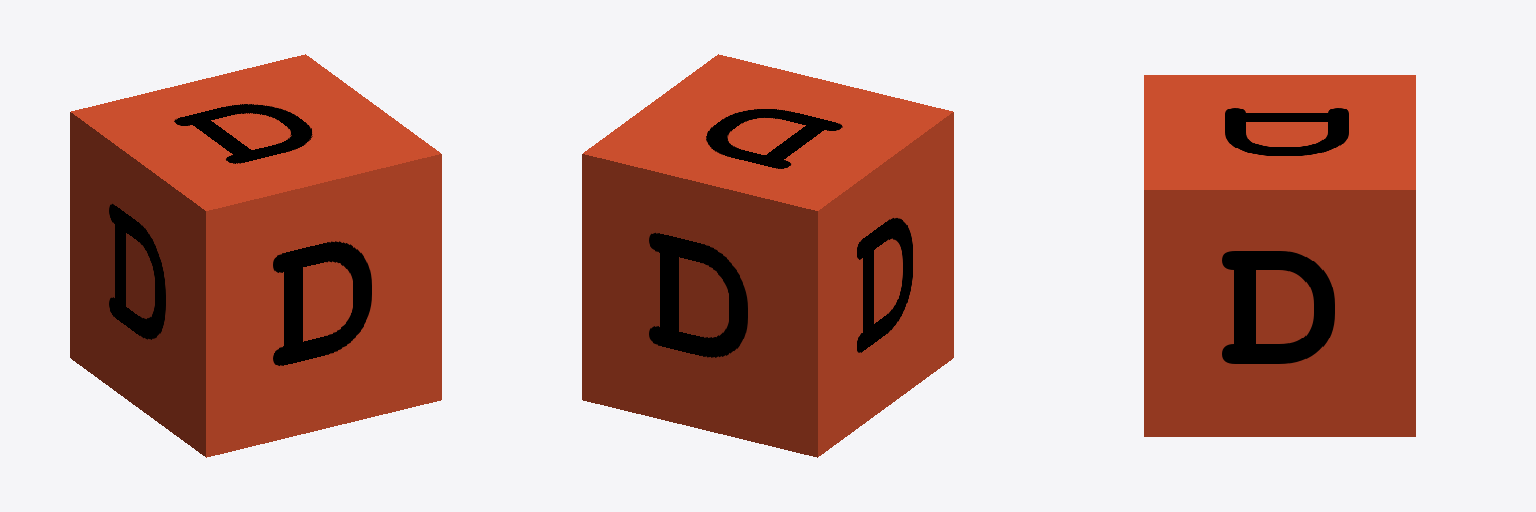
The picture shows the model from 3 angles: view 1: azimuth 30°, elevation 25°; view 2: azimuth 150°, elevation 25°; view 3: azimuth 270°, elevation 25°; orthographic projection.
Parts seen in each view (by area): view 1: cube; view 2: cube; view 3: cube.
Boxes of the visible parts, x1,y1,x2,y2 form: cube: [70, 54, 441, 457]; cube: [582, 54, 953, 457]; cube: [1144, 75, 1415, 436].
Bounding box in the file's own units: 1 × 1 × 1.
1 materials, 1 textured.